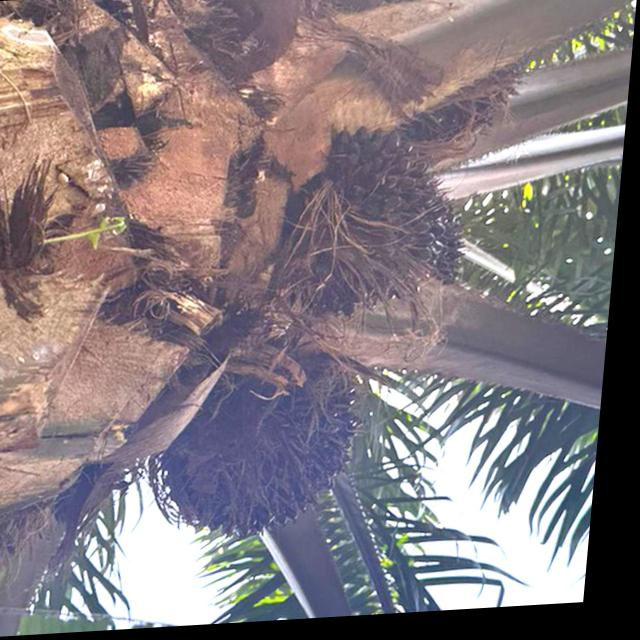almost: (161, 346, 379, 553), (307, 123, 488, 321)
